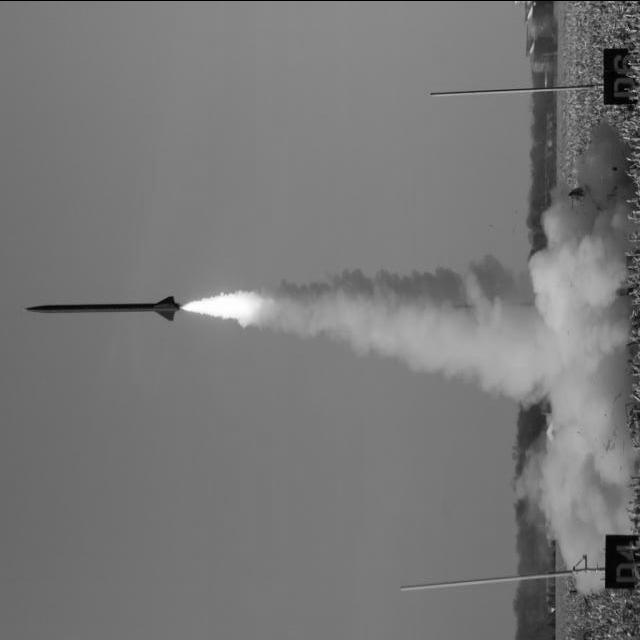Missile: (21, 294, 182, 321)
